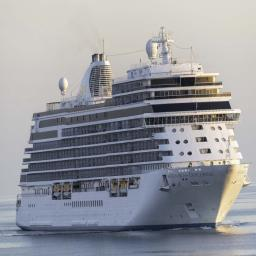cruises: (13, 27, 254, 239)
